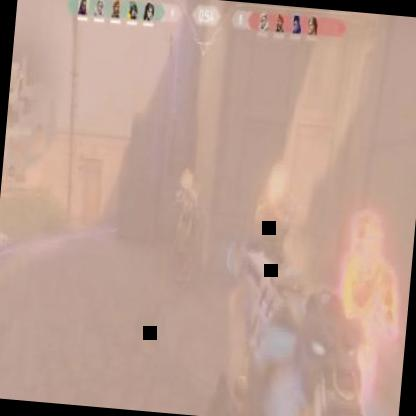enemy: (325, 207, 407, 416), (246, 162, 302, 319), (170, 167, 201, 258)
enemy_head: (350, 212, 384, 264), (266, 165, 290, 206), (180, 170, 194, 188)
